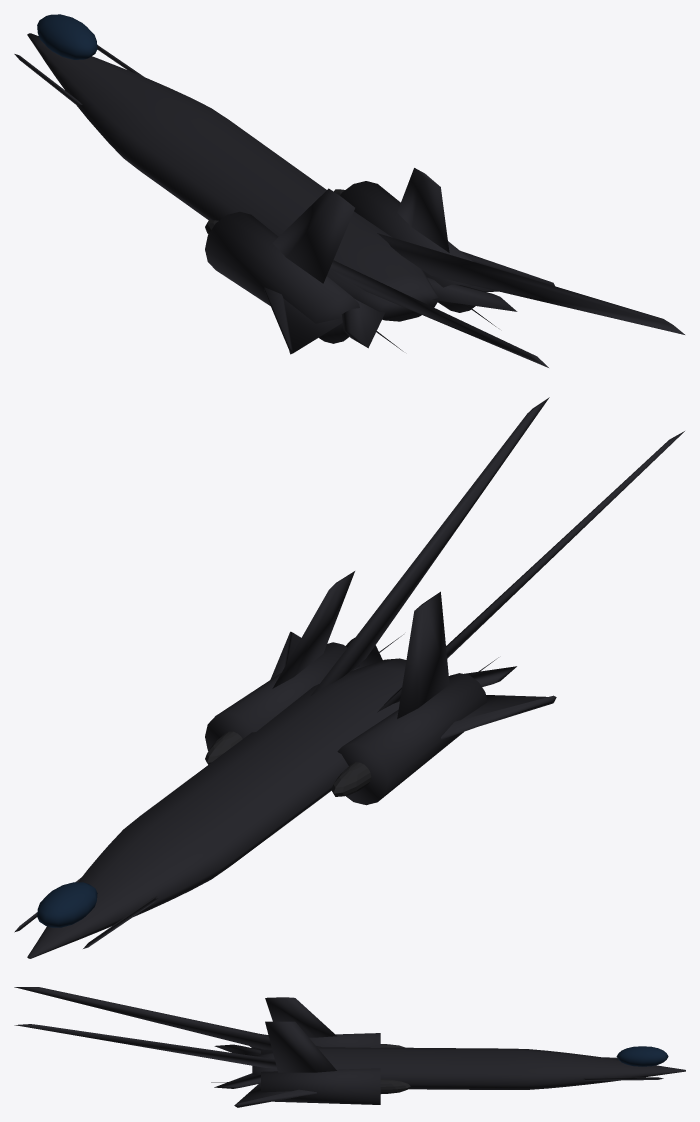
3 renders of one model, top to bottom at view 1: azimuth 30°, elevation 25°; view 2: azimuth 150°, elevation 25°; view 3: azimuth 270°, elevation 25°, orthographic. The views are drawn at different scales.
Visible parts, largest first — view 1: Body, Canopy; view 2: Body, Canopy, Detail; view 3: Body, Canopy, Detail.
Part boxes in pixels (x1,y1,x2,y2): Body: (14, 33, 684, 367); Canopy: (37, 14, 97, 59); Body: (14, 397, 684, 958); Canopy: (37, 882, 97, 927); Detail: (205, 731, 371, 796); Body: (14, 987, 685, 1107); Canopy: (616, 1046, 668, 1066); Detail: (380, 1044, 410, 1093).
Size of the model in its own units: 12 by 6.11 by 46.48.
